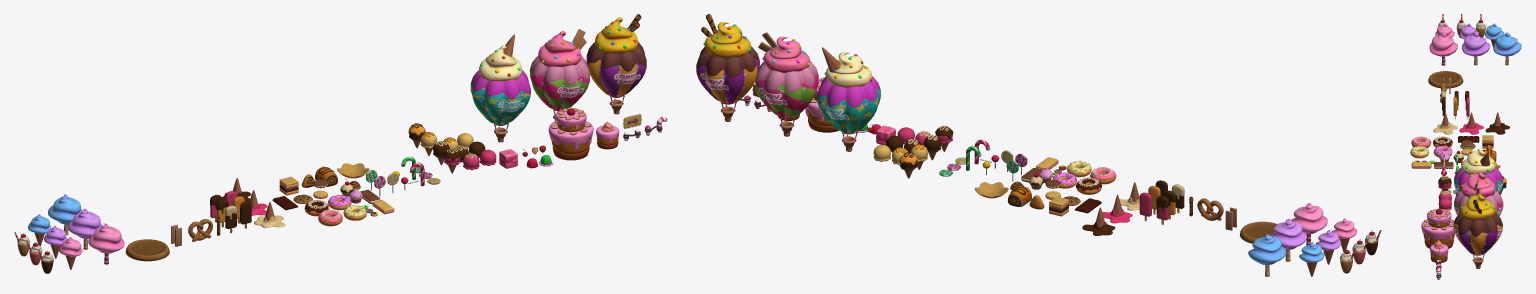
File: candy_kit.fbx
3 renders of one model, left to right at view 1: azimuth 30°, elevation 25°; view 2: azimuth 150°, elevation 25°; view 3: azimuth 270°, elevation 25°, orthographic. The views are drawn at different scales.
Visible parts, largest first — view 1: balloon_A, balloon_C, balloon_B, cake_big, cottoncandy_A, waffle, cottoncandy_Av2, cottoncandy_Av3, cake_small, cottoncandy_B, cottoncandy_Bv3, cottoncandy_Bv2 (+1 smaller); view 2: balloon_B, balloon_C, balloon_A, cottoncandy_Av3, cottoncandy_A, cottoncandy_Av2, cake_big, waffle, cottoncandy_Bv3, cottoncandy_Bv2, cottoncandy_B, pretzel; view 3: balloon_C, balloon_A, balloon_B, cake_big, cottoncandy_Av3, cottoncandy_A, cottoncandy_Av2, waffle, cake_small, melted_icecream, melted_icecreamv2, melted_icecreamv3 (+20 smaller).
Boxes of the visible parts, bbox=[...] form: balloon_A: bbox=[470, 34, 530, 142]; balloon_C: bbox=[586, 14, 646, 114]; balloon_B: bbox=[529, 29, 589, 120]; cake_big: bbox=[548, 104, 593, 160]; cottoncandy_A: bbox=[88, 223, 124, 264]; waffle: bbox=[125, 239, 169, 261]; cottoncandy_Av2: bbox=[67, 208, 102, 249]; cottoncandy_Av3: bbox=[48, 194, 82, 235]; cake_small: bbox=[596, 121, 619, 149]; cottoncandy_B: bbox=[59, 237, 82, 269]; cottoncandy_Bv3: bbox=[28, 214, 51, 246]; cottoncandy_Bv2: bbox=[44, 226, 66, 258]; balloon_B: bbox=[755, 32, 818, 136]; balloon_C: bbox=[696, 14, 759, 121]; balloon_A: bbox=[817, 47, 880, 151]; cottoncandy_Av3: bbox=[1248, 234, 1286, 276]; cottoncandy_A: bbox=[1290, 203, 1327, 245]; cottoncandy_Av2: bbox=[1270, 218, 1306, 261]; cake_big: bbox=[805, 77, 838, 132]; waffle: bbox=[1239, 221, 1277, 243]; cottoncandy_Bv3: bbox=[1299, 242, 1324, 276]; cottoncandy_Bv2: bbox=[1315, 230, 1341, 264]; cottoncandy_B: bbox=[1332, 218, 1357, 251]; pretzel: bbox=[1197, 198, 1223, 220]; balloon_C: bbox=[1453, 194, 1502, 268]; balloon_A: bbox=[1454, 149, 1503, 193]; balloon_B: bbox=[1454, 172, 1503, 216]; cake_big: bbox=[1421, 204, 1454, 248]; cottoncandy_Av3: bbox=[1493, 31, 1521, 65]; cottoncandy_A: bbox=[1429, 31, 1457, 65]; cottoncandy_Av2: bbox=[1462, 31, 1490, 65]; waffle: bbox=[1428, 71, 1463, 88]; cake_small: bbox=[1430, 240, 1448, 262]; melted_icecream: bbox=[1433, 112, 1457, 134]; melted_icecreamv2: bbox=[1459, 112, 1483, 134]; melted_icecreamv3: bbox=[1485, 112, 1509, 134].
Size of the model in its own units: 5055 by 799 by 974.
Materials: 14 (14 with a texture image).
